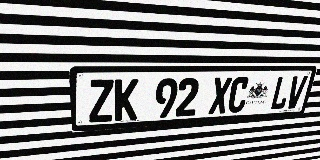2: (175, 78, 200, 117)
9: (154, 78, 179, 118)
C: (226, 77, 251, 113)
K: (114, 79, 139, 121)
L: (269, 76, 293, 110)
V: (284, 76, 308, 109)
X: (208, 77, 232, 114)
Z: (88, 79, 114, 123)
